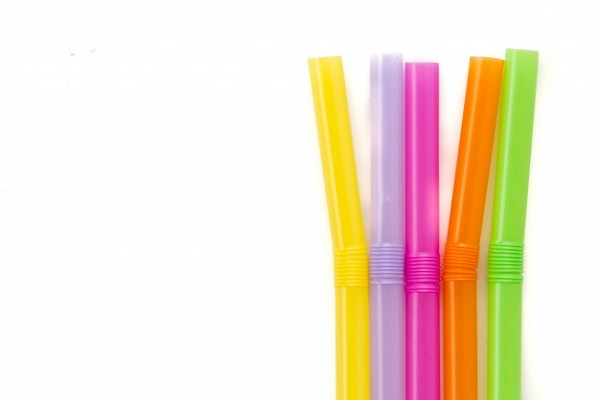PP: (307, 58, 369, 400), (444, 59, 502, 400), (484, 50, 539, 400), (369, 56, 407, 400), (407, 62, 441, 400)
